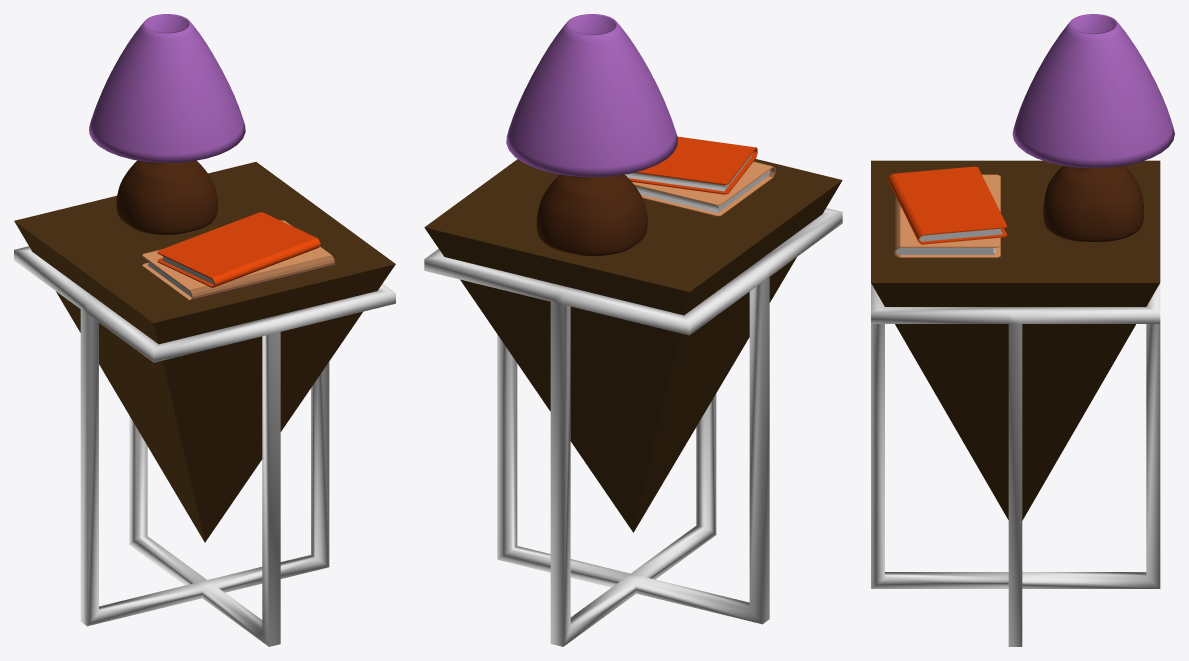
Rendered from schön.fbx.
The picture shows the model from 3 angles, left to right: view 1: azimuth 30°, elevation 25°; view 2: azimuth 150°, elevation 25°; view 3: azimuth 270°, elevation 25°; orthographic projection. The views are drawn at different scales.
Visible parts, largest first — view 1: tafel, Cube, boek, boek2; view 2: tafel, Cube, boek, boek2; view 3: tafel, Cube, boek, boek2.
Part boxes in pixels (left/top/right/bottom): tafel: left=14, top=162, right=395, bottom=646; Cube: left=89, top=14, right=245, bottom=234; boek: left=157, top=212, right=320, bottom=287; boek2: left=142, top=220, right=334, bottom=301; tafel: left=424, top=159, right=842, bottom=646; Cube: left=506, top=14, right=677, bottom=256; boek: left=625, top=136, right=757, bottom=194; boek2: left=632, top=161, right=775, bottom=216; tafel: left=871, top=160, right=1160, bottom=646; Cube: left=1012, top=14, right=1174, bottom=241; boek: left=888, top=166, right=1007, bottom=244; boek2: left=894, top=174, right=1000, bottom=257.
Bounding box in the file's own units: 45.72 × 97.94 × 48.05.
